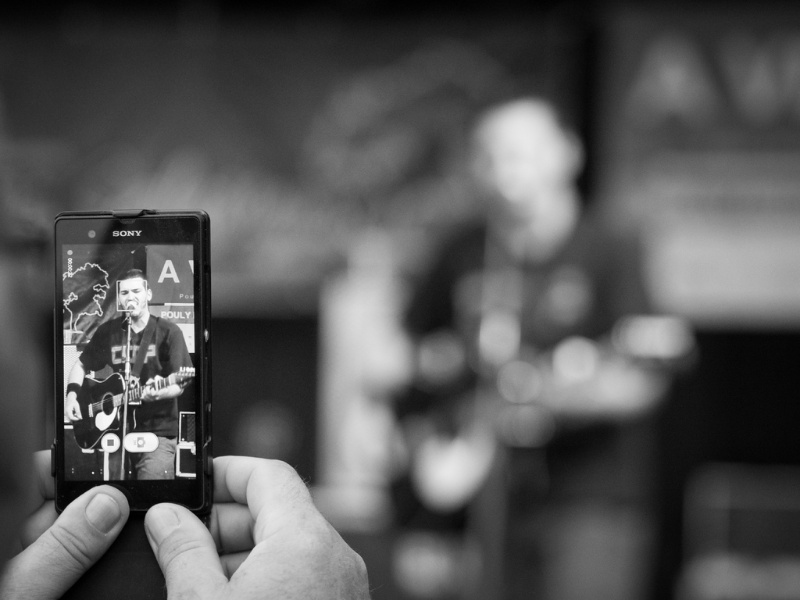Mobile Phone: (41, 200, 235, 519)
